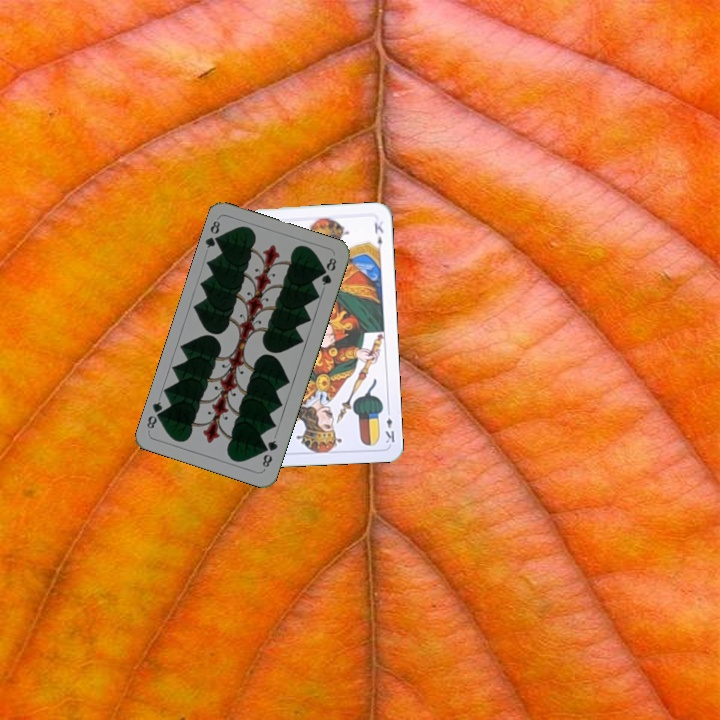EK: (381, 405, 397, 446)
G8: (201, 217, 225, 251), (258, 436, 280, 470)
